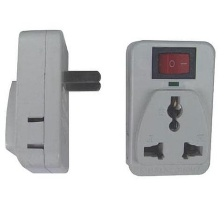three_eye_plug: (1, 27, 105, 178), (123, 35, 219, 177)
